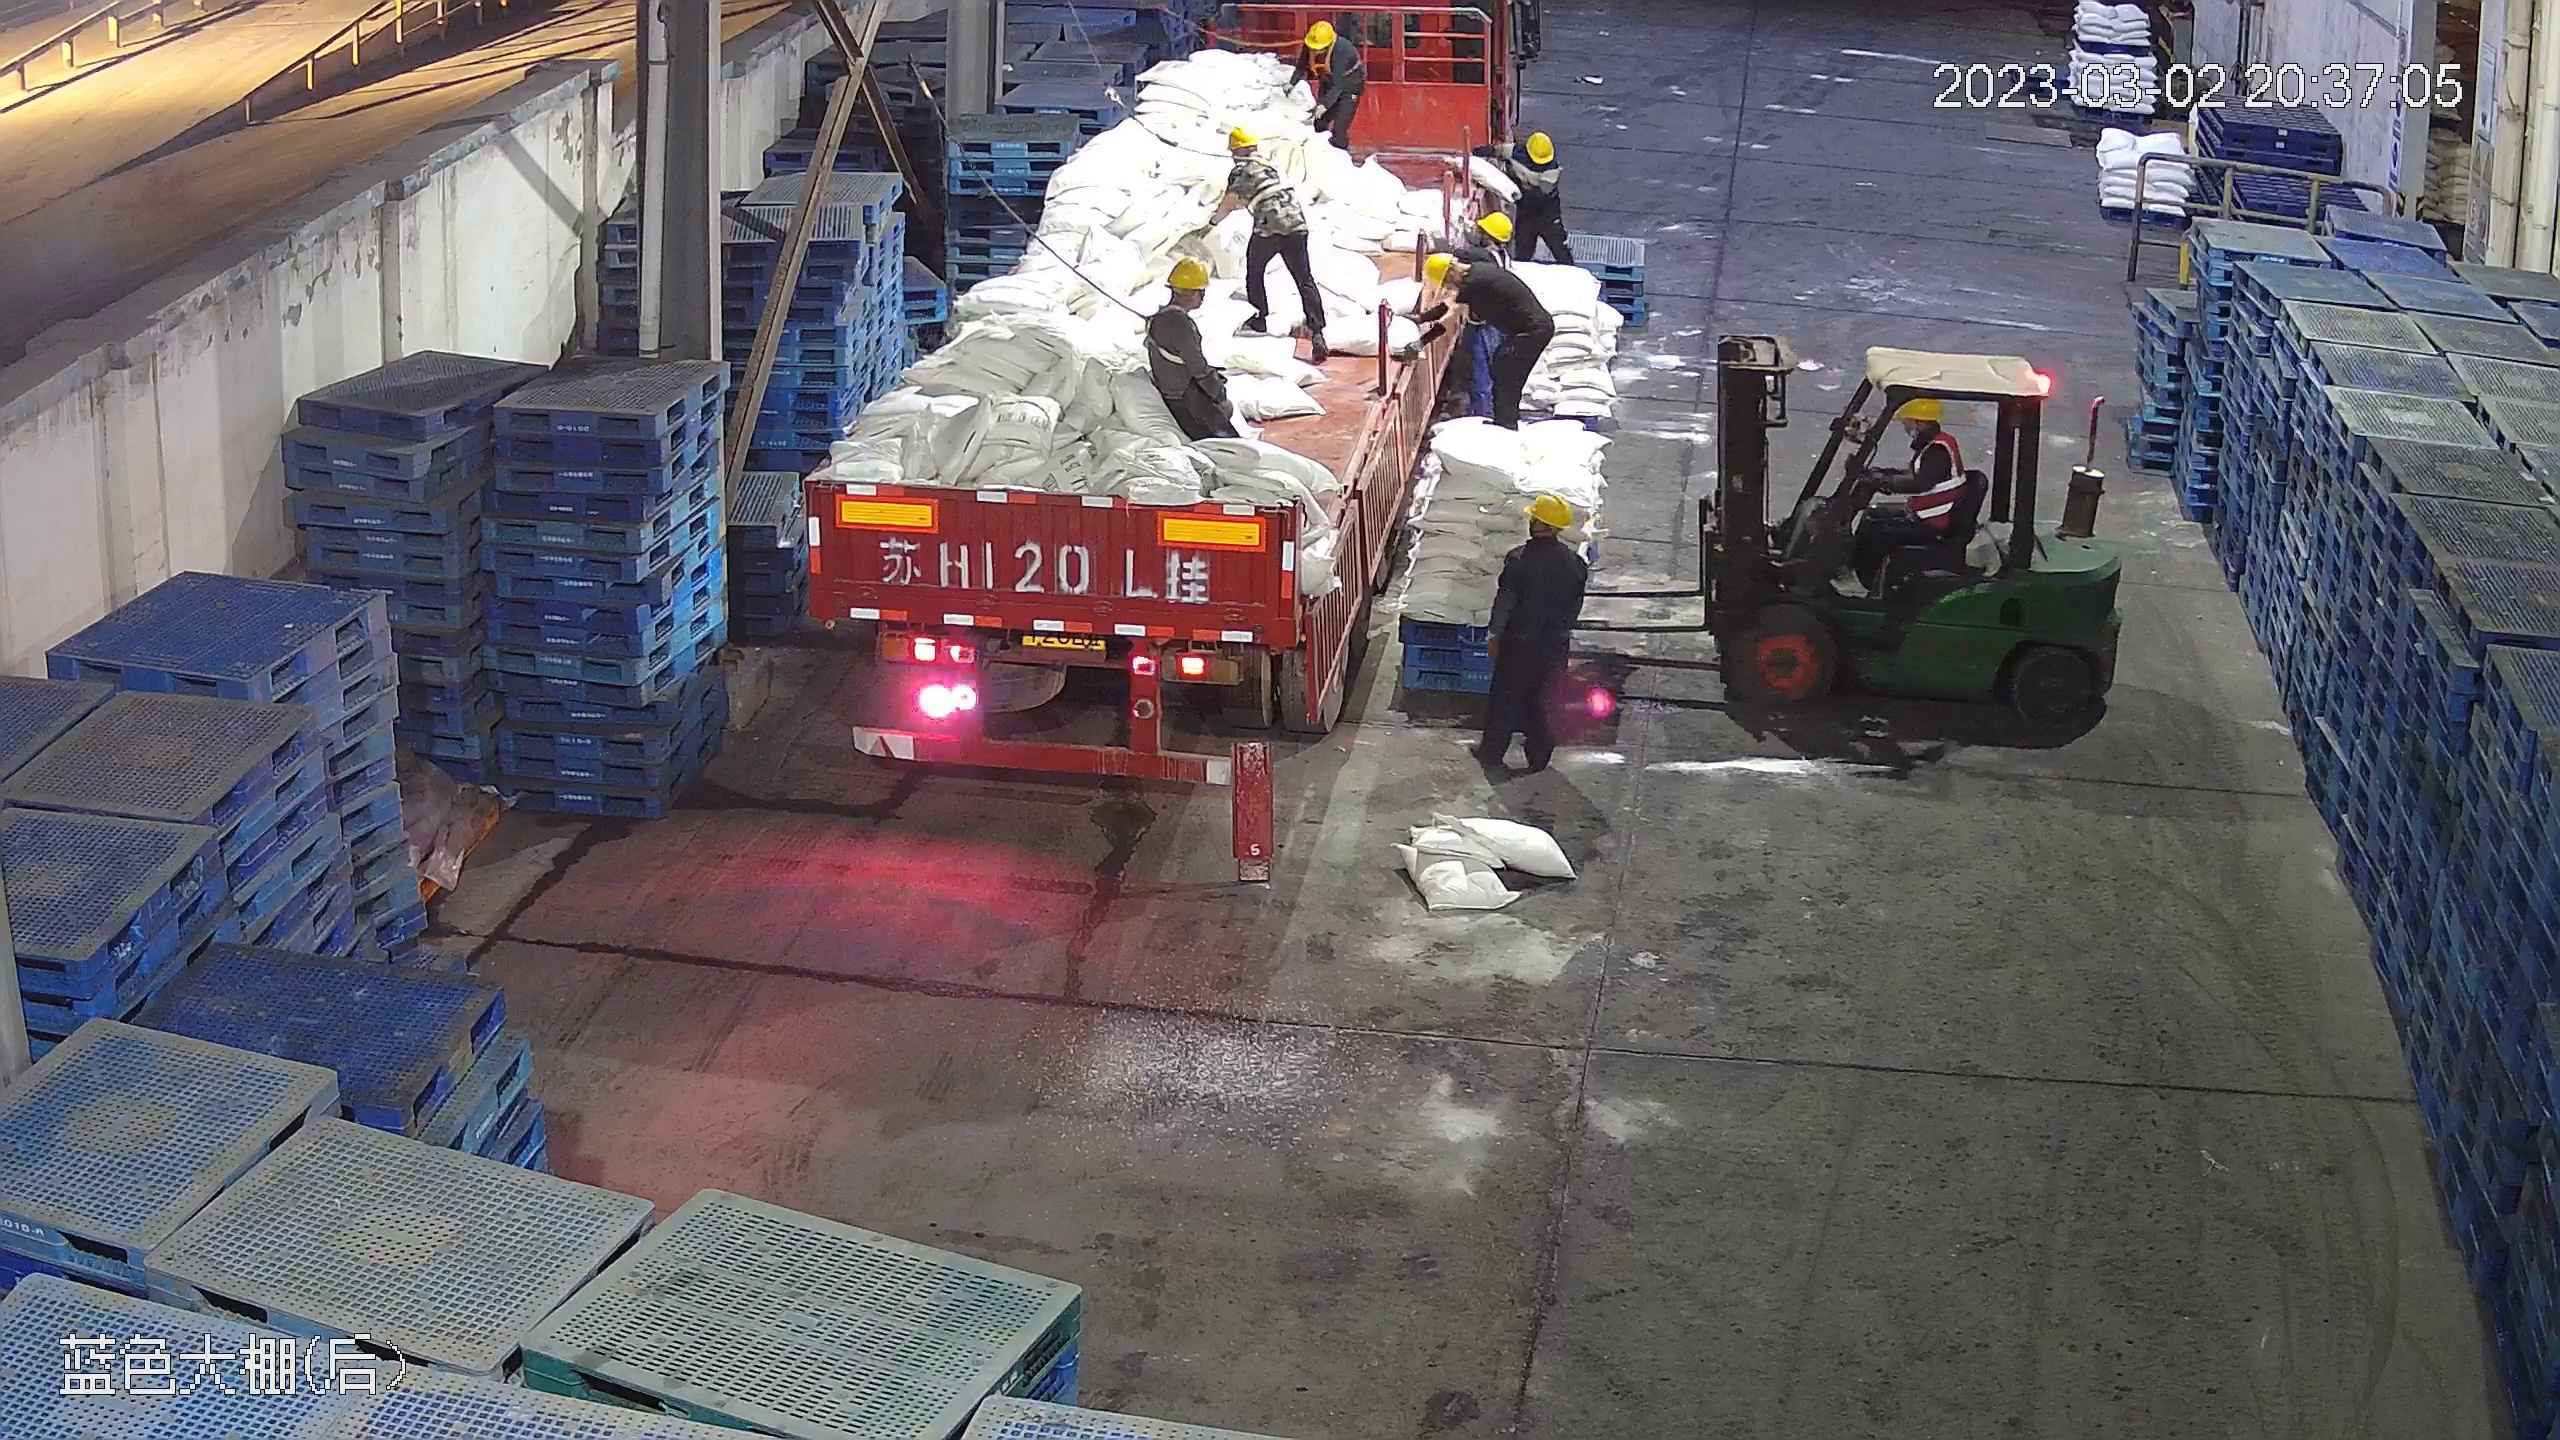belt: (1143, 302, 1196, 366), (1236, 155, 1287, 209), (1311, 42, 1356, 88), (1489, 241, 1513, 274)
head: (1498, 492, 1587, 590), (1147, 253, 1218, 340), (1424, 244, 1509, 313), (1894, 393, 1962, 476), (1220, 119, 1283, 188), (1299, 18, 1354, 70), (1506, 130, 1558, 185)
helmet: (1522, 492, 1575, 532), (1165, 254, 1213, 292), (1421, 251, 1456, 291), (1475, 208, 1514, 240), (1899, 394, 1944, 420), (1302, 17, 1340, 48), (1525, 130, 1556, 163), (1223, 125, 1258, 152)
people: (1475, 493, 1587, 775), (1834, 389, 1967, 596), (1208, 124, 1331, 347), (1418, 233, 1554, 427), (1143, 254, 1255, 455), (1482, 128, 1565, 274), (1291, 17, 1366, 174)
truck: (817, 7, 1508, 785)
